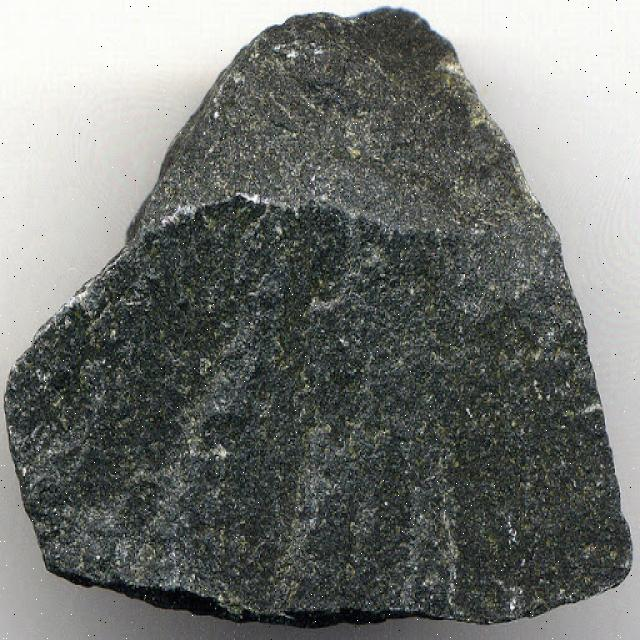Igneous: (13, 3, 632, 632)
